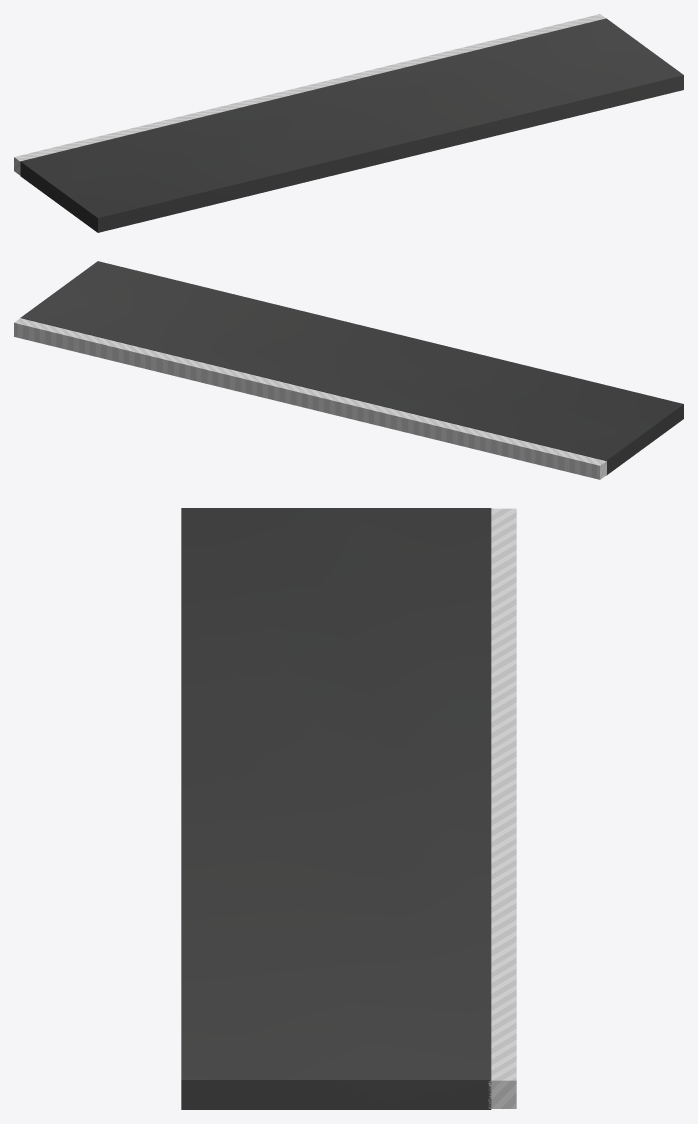
File: base_start.fbx
The picture shows the model from 3 angles, top to bottom: view 1: azimuth 30°, elevation 25°; view 2: azimuth 150°, elevation 25°; view 3: azimuth 270°, elevation 25°; orthographic projection. The views are drawn at different scales.
Parts seen in each view (by area): view 1: base_start; view 2: base_start; view 3: base_start.
Part boxes in pixels (x1,y1,x2,y2): base_start: [14, 14, 683, 232]; base_start: [14, 261, 683, 479]; base_start: [181, 508, 516, 1109].
Size of the model in its own units: 13959 by 339 by 3461.
